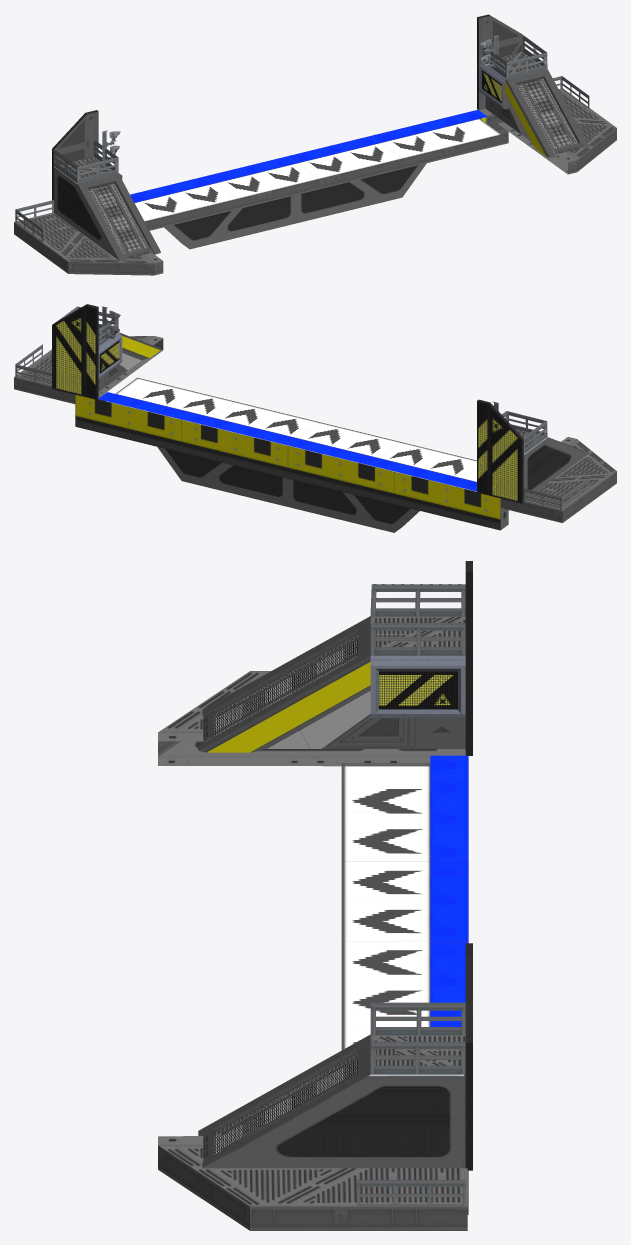
The model's file is jump_gate_landing.fbx.
3 renders of one model, top to bottom at view 1: azimuth 30°, elevation 25°; view 2: azimuth 150°, elevation 25°; view 3: azimuth 270°, elevation 25°, orthographic. The views are drawn at different scales.
Parts seen in each view (by area): view 1: gate, flt_lines_landing, frontplate_landing; view 2: frontplate_landing, gate, flt_lines_landing; view 3: gate, flt_lines_landing.
Part boxes in pixels (x1,y1,x2,y2): gate: (14,14,616,275); flt_lines_landing: (130,110,501,221); frontplate_landing: (145,108,508,249); frontplate_landing: (75,392,508,532); gate: (14,304,616,522); flt_lines_landing: (98,377,476,491); gate: (158,561,472,1230); flt_lines_landing: (341,755,468,1050).
Size of the model in its own units: 5885 by 1570 by 1462.
